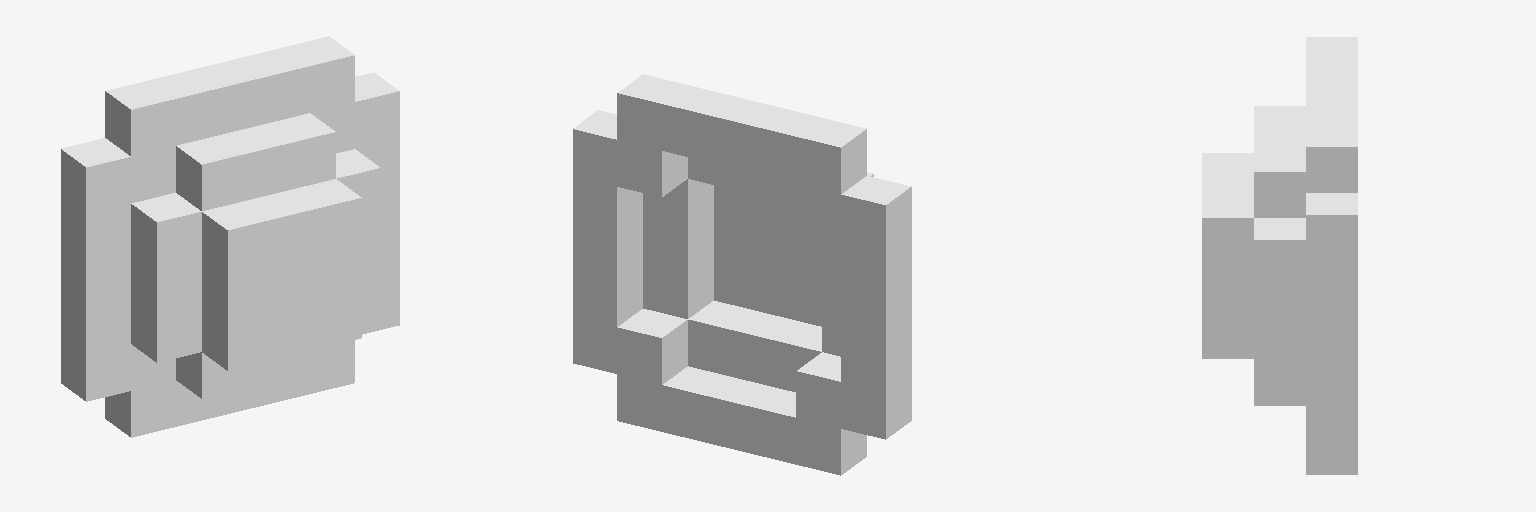
File: eye13.obj
3 renders of one model, left to right at view 1: azimuth 30°, elevation 25°; view 2: azimuth 150°, elevation 25°; view 3: azimuth 270°, elevation 25°, orthographic.
Parts seen in each view (by area): view 1: eye13; view 2: eye13; view 3: eye13.
Part boxes in pixels (x1,y1,x2,y2): eye13: (61,36,399,437); eye13: (573,74,911,475); eye13: (1202,37,1357,474).
Size of the model in its own units: 0.7 by 0.7 by 0.3.